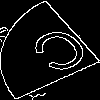C: (25, 24, 100, 84)
